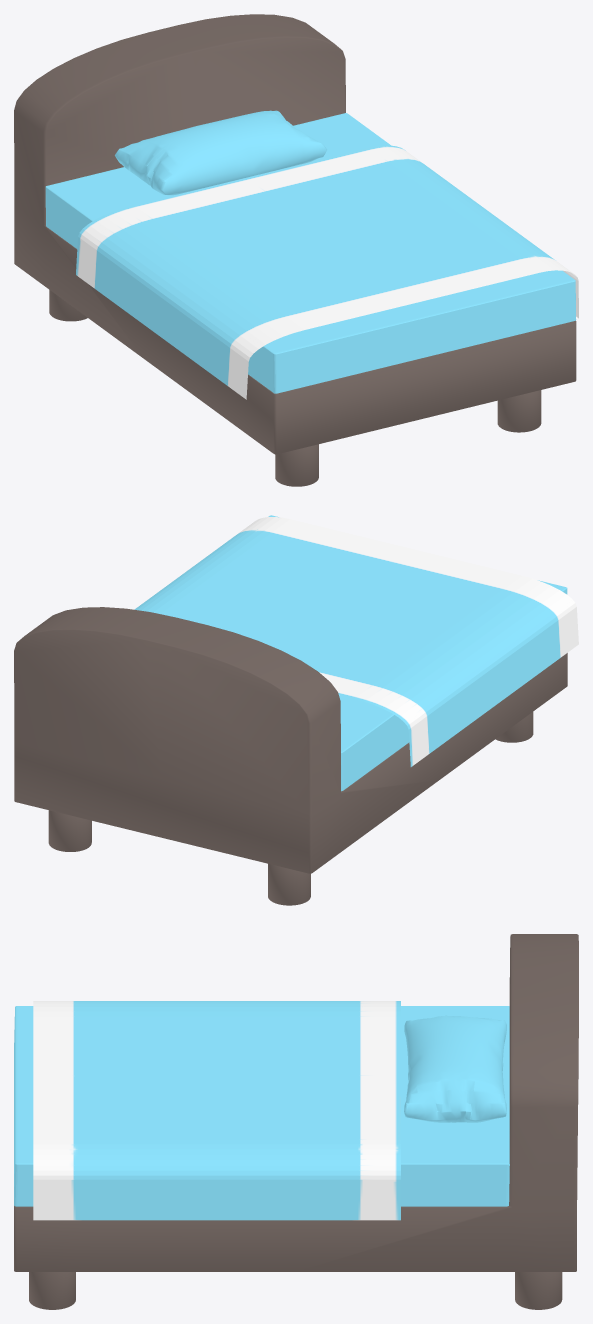
File: basic_bed.glb
The picture shows the model from 3 angles, top to bottom: view 1: azimuth 30°, elevation 25°; view 2: azimuth 150°, elevation 25°; view 3: azimuth 270°, elevation 25°; orthographic projection. The views are drawn at different scales.
Visible parts, largest first — view 1: pillow.001; view 2: pillow.001; view 3: pillow.001.
Part boxes in pixels (x1,y1,x2,y2): pillow.001: (14,14,578,486); pillow.001: (14,515,578,905); pillow.001: (14,934,578,1309).
Bounding box in the file's own units: 2.2 × 1.54 × 3.01.
Materials: 1 (1 with a texture image).
